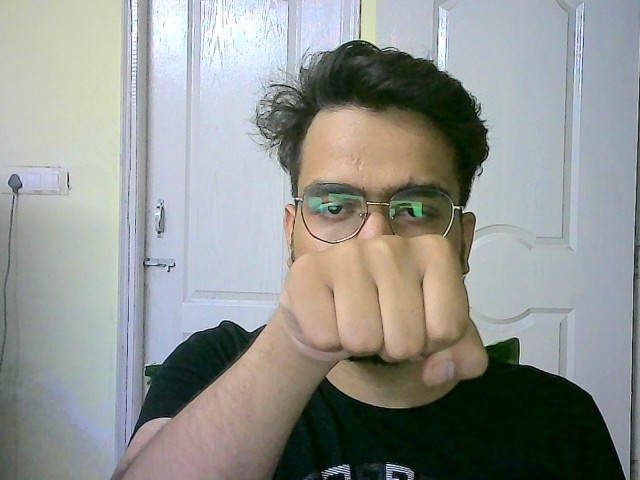Yes: (269, 231, 495, 395)
